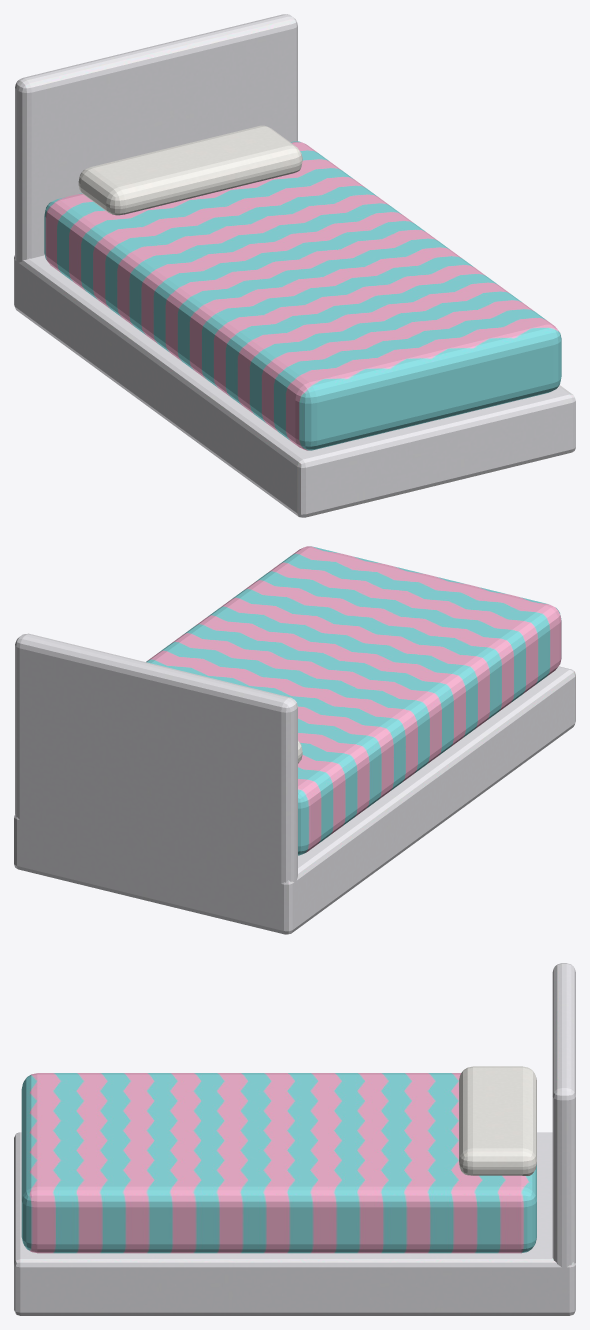
Rendered from bed.glb.
The picture shows the model from 3 angles, top to bottom: view 1: azimuth 30°, elevation 25°; view 2: azimuth 150°, elevation 25°; view 3: azimuth 270°, elevation 25°; orthographic projection. The views are drawn at different scales.
Parts seen in each view (by area): view 1: bed; view 2: bed; view 3: bed.
Boxes of the visible parts, x1,y1,x2,y2 form: bed: [14, 14, 575, 517]; bed: [14, 546, 575, 934]; bed: [14, 963, 575, 1315].
Size of the model in its own units: 20 by 16 by 36.
1 material, 1 textured.
